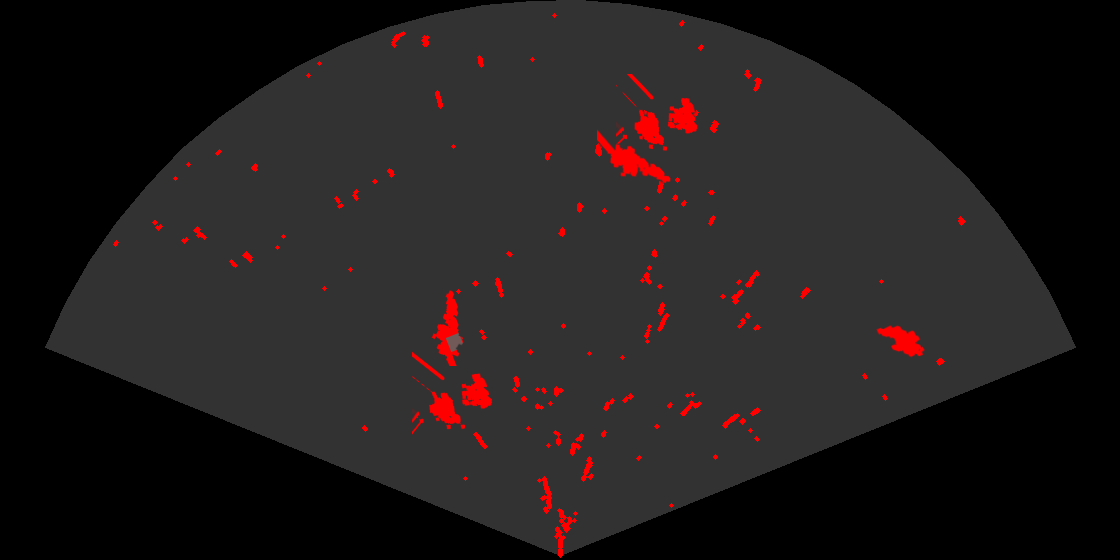AUV: (875, 324, 926, 359)
cage: (412, 350, 494, 436), (616, 74, 699, 152)
frogman: (597, 128, 672, 185), (430, 289, 465, 366)
